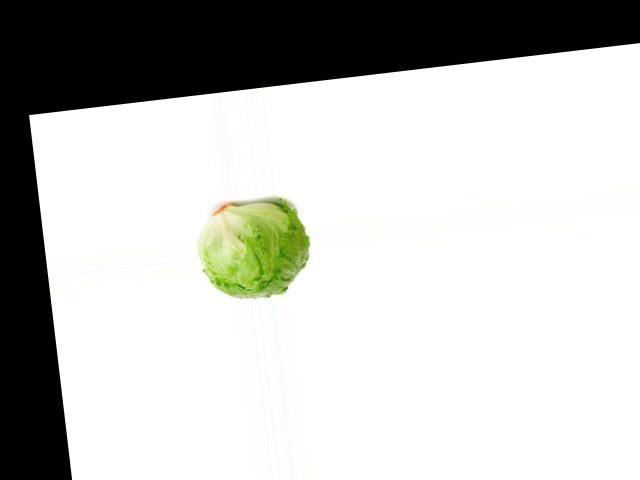lettuce: (199, 197, 314, 304)
